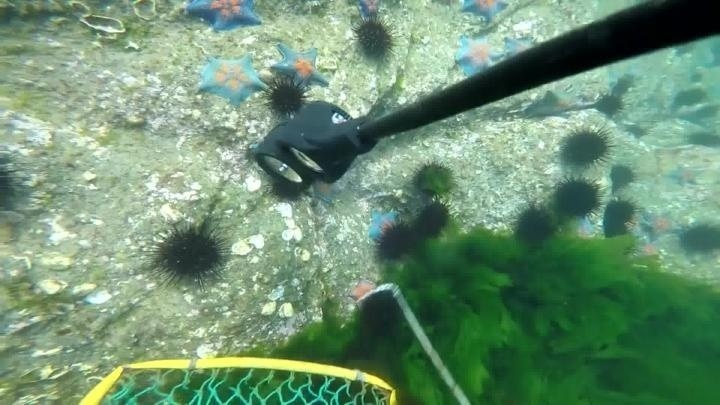echinus: (148, 220, 231, 289), (355, 287, 407, 341), (558, 125, 614, 171), (552, 175, 603, 220), (351, 16, 398, 63), (511, 203, 558, 249), (1, 149, 32, 215), (410, 159, 458, 199), (375, 221, 419, 263), (264, 78, 308, 119), (677, 219, 720, 259), (413, 199, 453, 240), (600, 197, 638, 239), (671, 85, 709, 112), (606, 162, 638, 192), (593, 91, 626, 119), (685, 128, 720, 152), (608, 72, 639, 98), (270, 177, 297, 200)
starfish: (196, 52, 267, 107), (271, 40, 332, 92), (182, 1, 265, 35), (522, 87, 590, 122), (452, 32, 502, 79), (364, 205, 404, 246), (641, 208, 683, 242), (558, 214, 605, 243), (459, 1, 511, 23), (663, 162, 705, 189), (306, 177, 343, 207), (500, 34, 539, 60), (344, 275, 380, 303), (623, 208, 653, 240), (642, 83, 672, 113), (629, 238, 663, 264), (352, 1, 383, 20), (622, 121, 649, 141)
